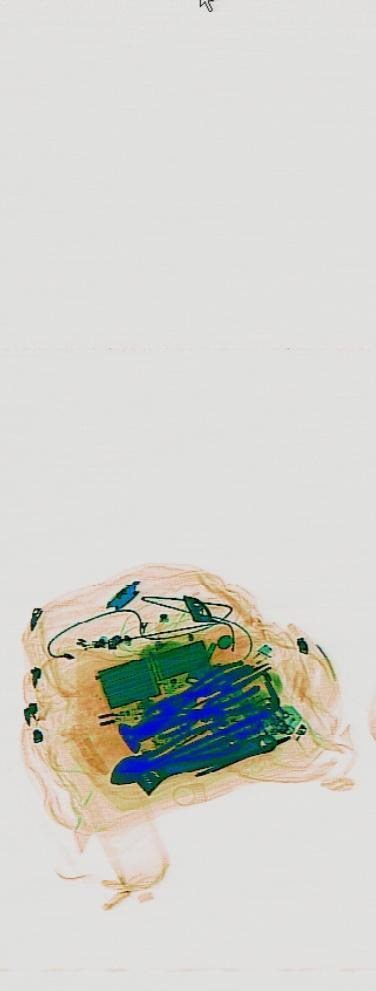Pliers: (153, 648, 260, 734)
Wrench: (108, 718, 275, 804)
